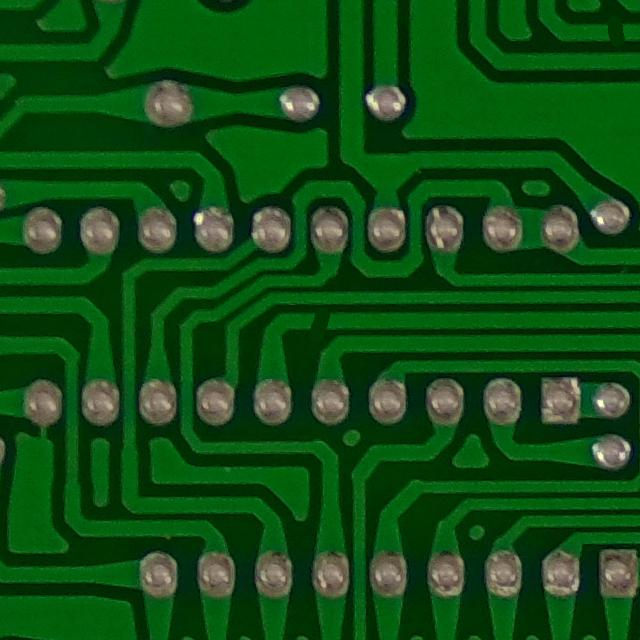open_circuit: (299, 303, 341, 337)
